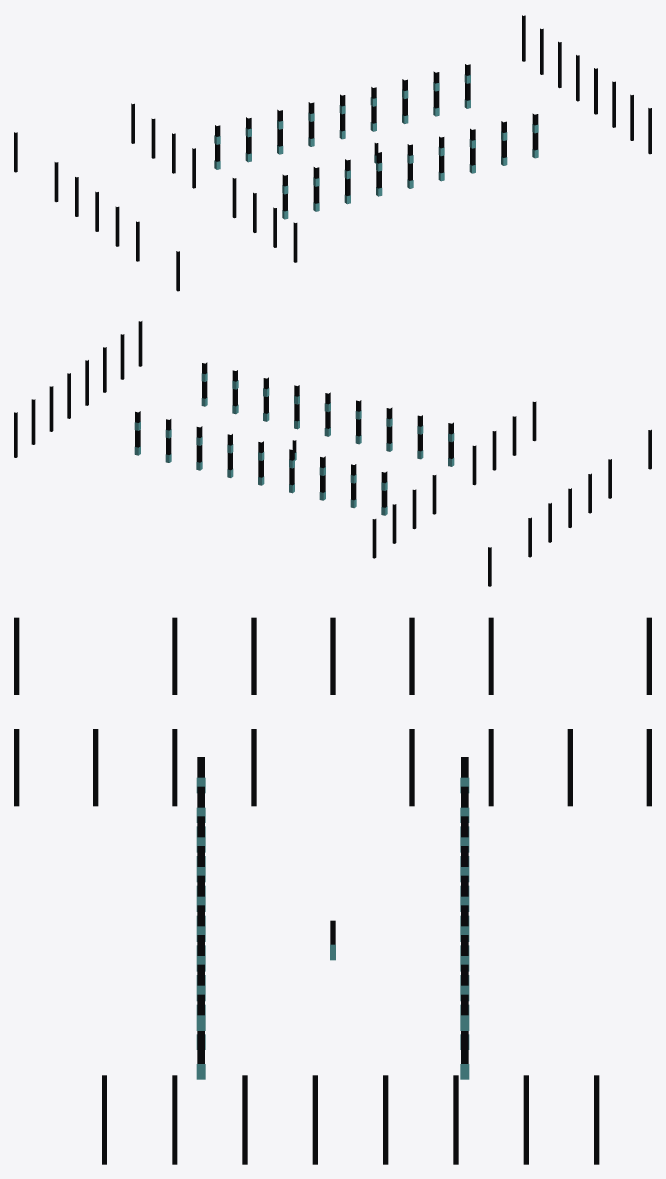
The model's file is tt_struct_columns.glb.
The picture shows the model from 3 angles, top to bottom: view 1: azimuth 30°, elevation 25°; view 2: azimuth 150°, elevation 25°; view 3: azimuth 270°, elevation 25°; orthographic projection. The views are drawn at different scales.
Visible parts, largest first — view 1: PT_Columns, Aquatic_Columns, Column_Pads, E_Band_Columns; view 2: PT_Columns, Aquatic_Columns, Column_Pads, E_Band_Columns; view 3: Aquatic_Columns, E_Band_Columns, PT_Columns, Column_Pads.
Part boxes in pixels (x1,y1,x2,y2): PT_Columns: (215, 64, 538, 211); Aquatic_Columns: (14, 103, 297, 291); Column_Pads: (214, 74, 538, 219); E_Band_Columns: (522, 15, 651, 154); PT_Columns: (135, 362, 453, 507); Aquatic_Columns: (372, 401, 651, 586); Column_Pads: (134, 373, 454, 515); E_Band_Columns: (14, 321, 142, 457); Aquatic_Columns: (14, 617, 651, 806); E_Band_Columns: (102, 1075, 599, 1164); PT_Columns: (197, 757, 468, 1063); Column_Pads: (196, 777, 469, 1079).
Size of what is drawn, in the model's own units: 127 by 11.21 by 72.6.
Materials: 2 (1 with a texture image).
